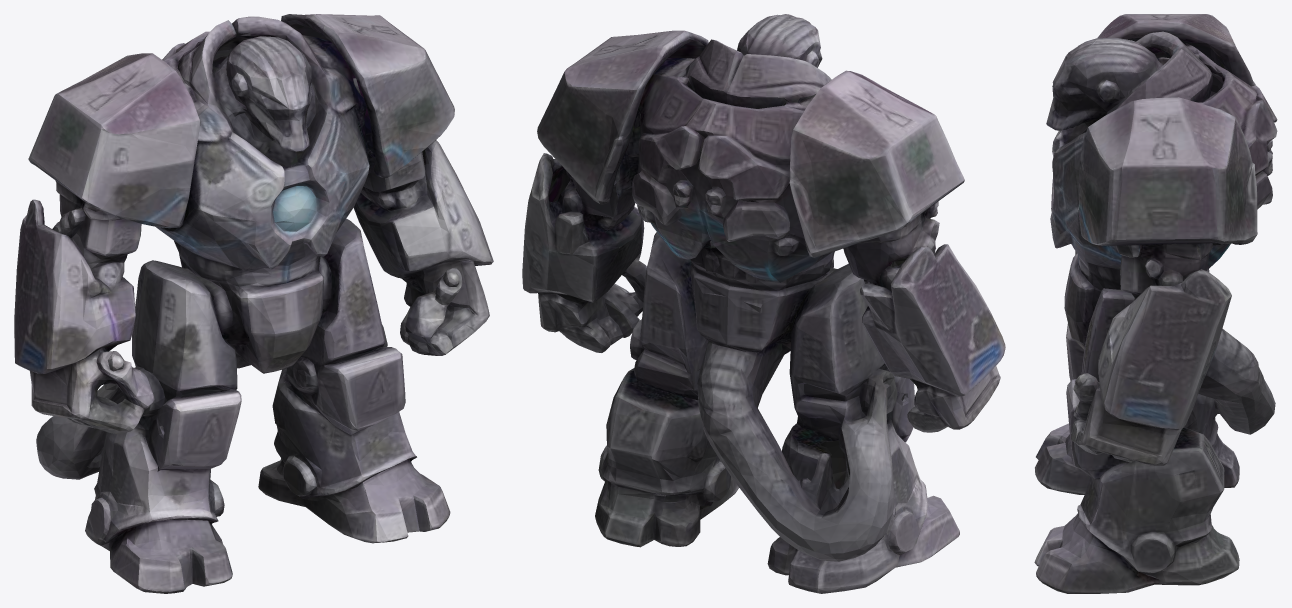
The model's file is starMetalGolem.glb.
3 renders of one model, left to right at view 1: azimuth 30°, elevation 25°; view 2: azimuth 150°, elevation 25°; view 3: azimuth 270°, elevation 25°, orthographic. The views are drawn at different scales.
Parts seen in each view (by area): view 1: world; view 2: world; view 3: world.
Boxes of the visible parts, x1,y1,x2,y2 form: world: (14,14,493,593); world: (522,14,1005,593); world: (1034,14,1277,593).
Size of the model in its own units: 0.948 by 0.9998 by 0.4593.
1 material, 1 textured.
